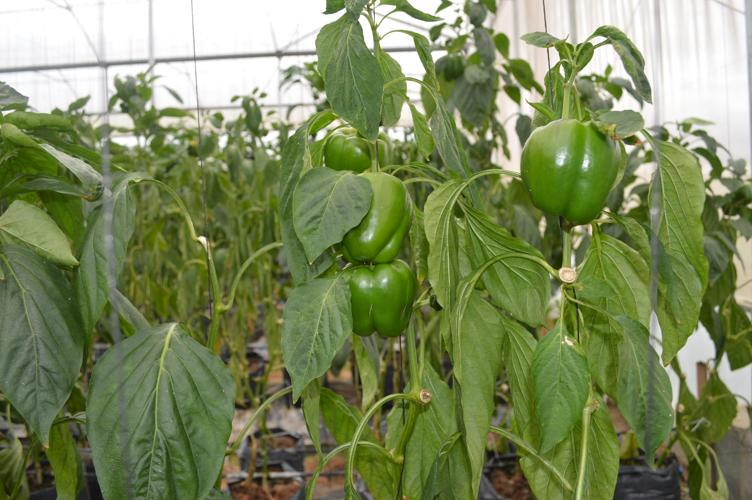BellPepper: (516, 118, 619, 222), (336, 170, 409, 265), (328, 264, 417, 338), (323, 129, 387, 168)
